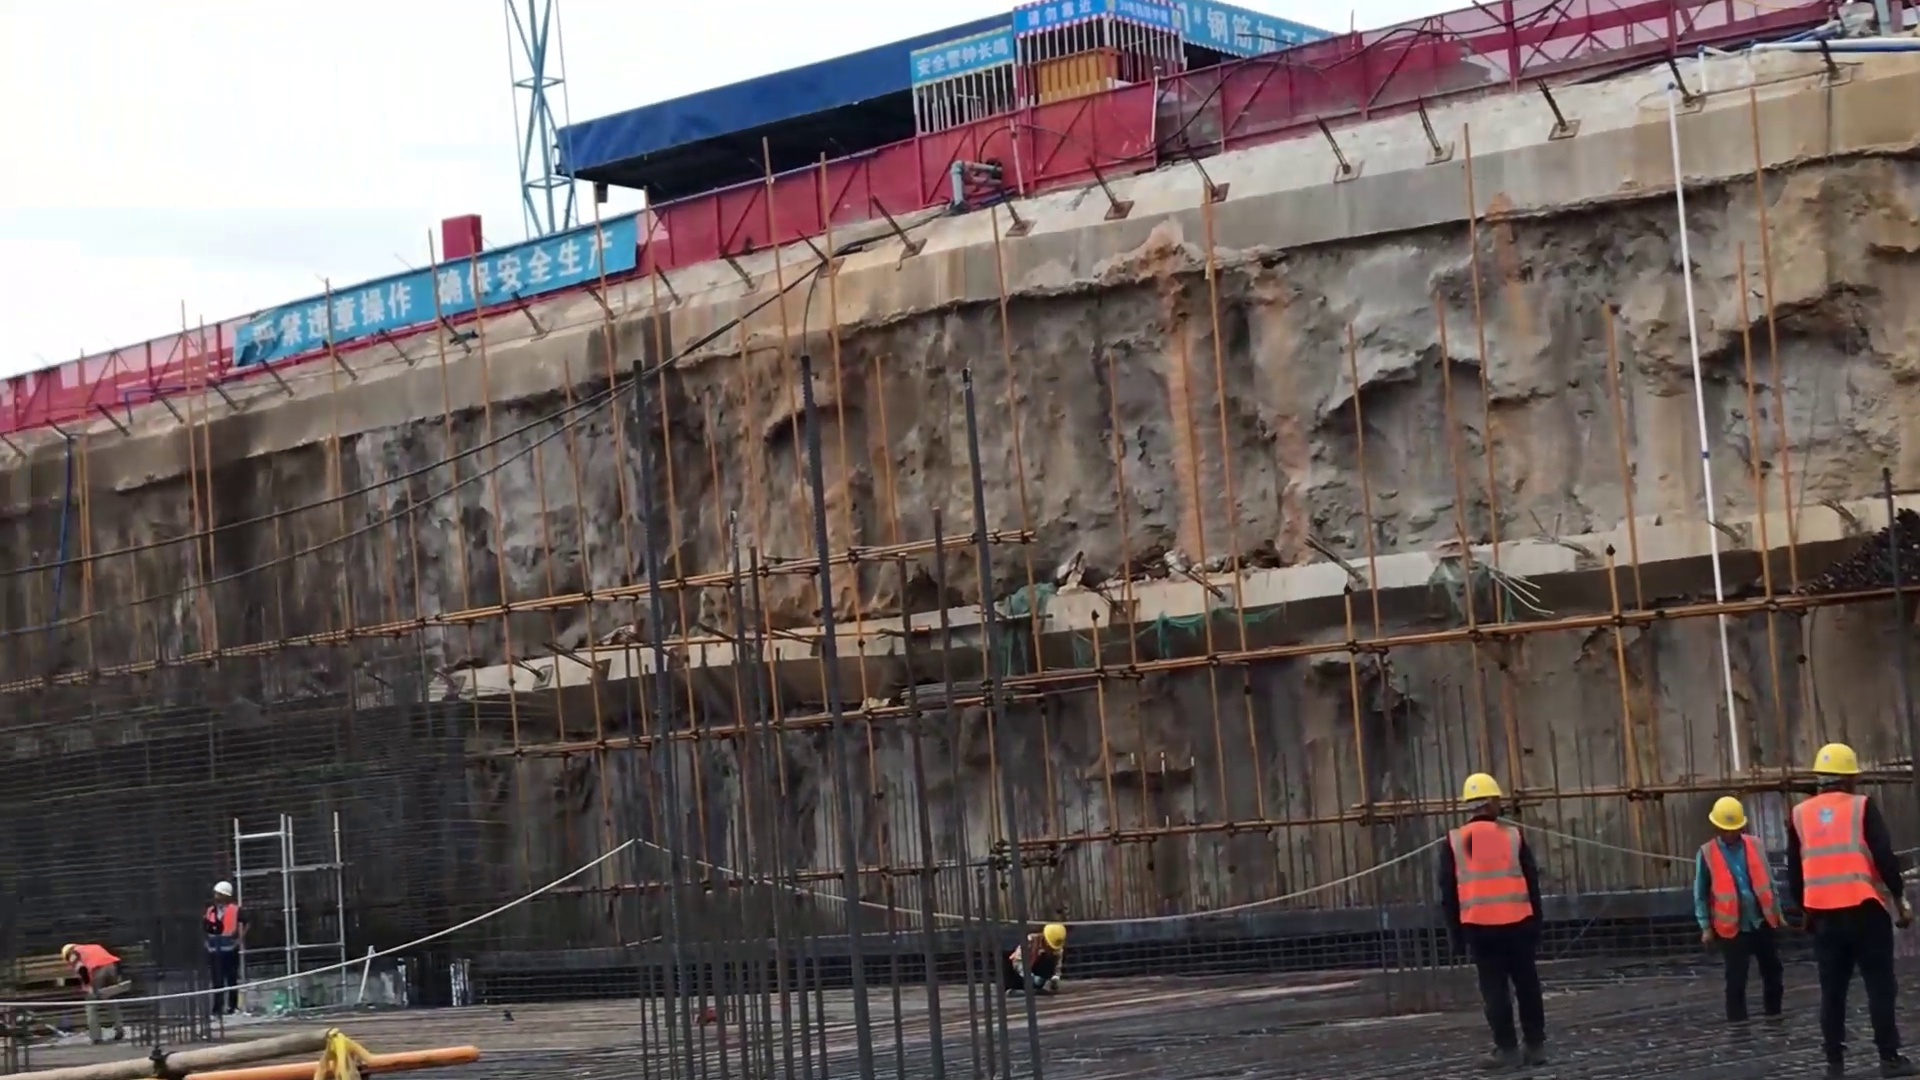helmet: (1804, 740, 1860, 784), (1708, 794, 1753, 830), (1462, 771, 1500, 800), (1047, 915, 1069, 952), (209, 874, 237, 899)
person: (1785, 741, 1919, 1079), (1436, 764, 1549, 1077), (1690, 792, 1788, 1044), (53, 941, 131, 1042), (201, 877, 251, 1020), (1001, 914, 1070, 998)
slogan: (241, 213, 666, 361), (906, 34, 1017, 86)
vest: (1787, 789, 1883, 929), (1693, 835, 1783, 945), (1439, 820, 1533, 923)
